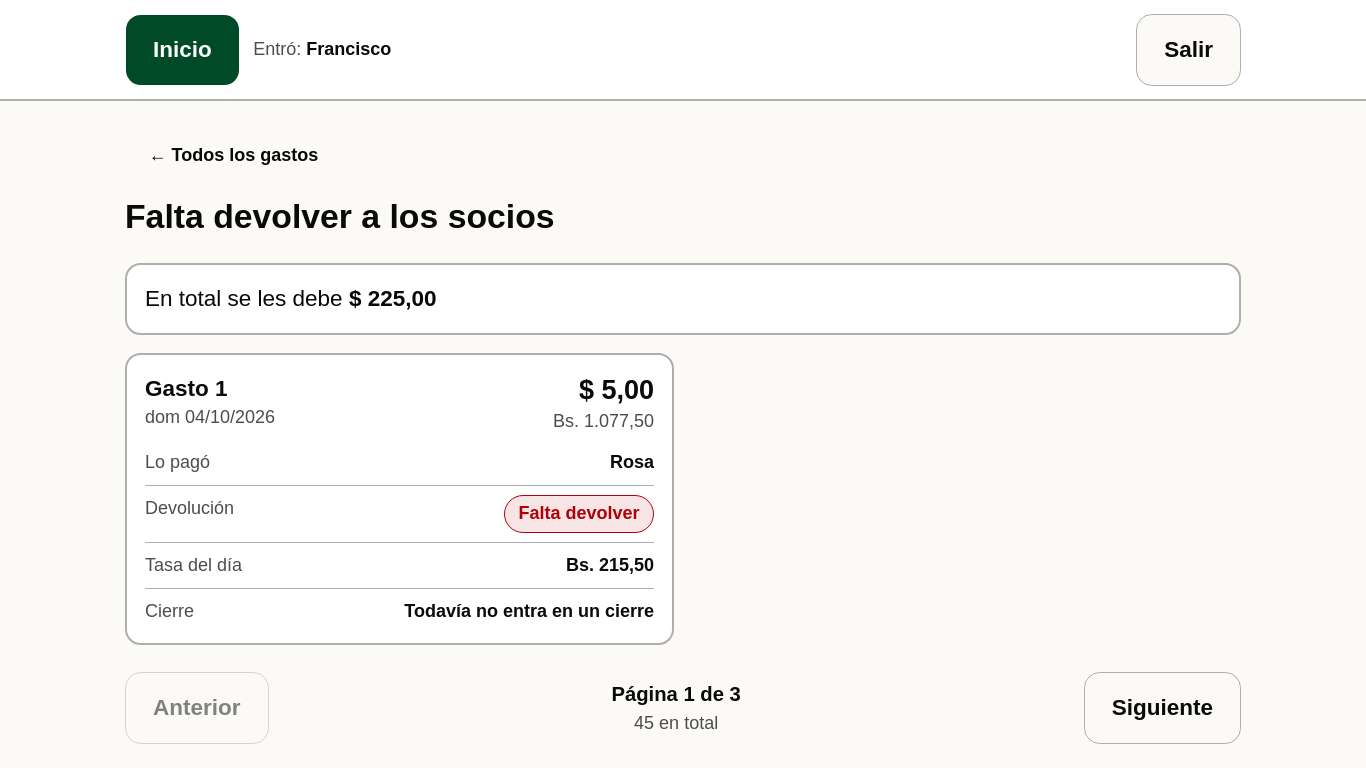
Test: money owed to partners › shows the total of every page and moves through the pages
Expected: the heading "Gasto 1" is shown, [145, 376, 228, 400]
Expected: the text "En total se les debe $ 225,00" is shown, [125, 263, 1241, 334]
Click the button "Siguiente" at (1162, 708), box [1084, 672, 1241, 744]
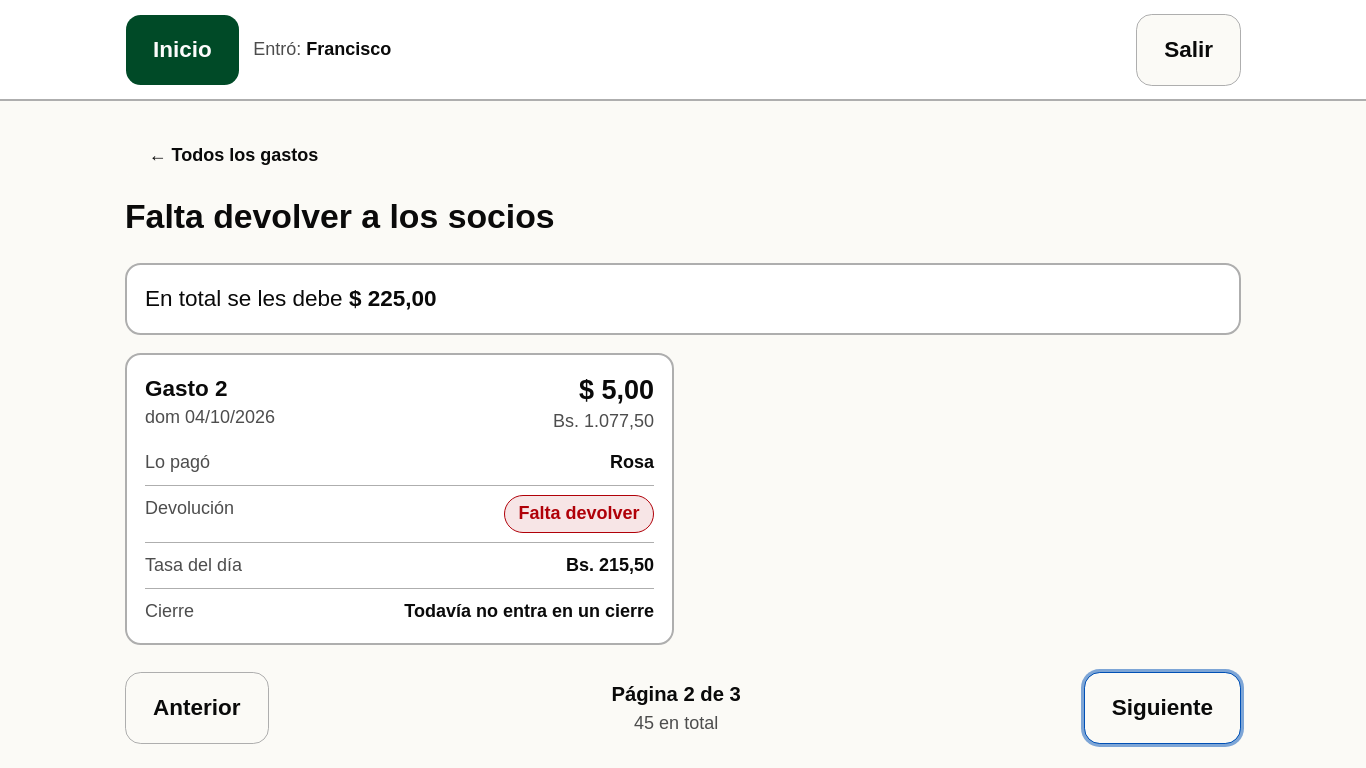
Expected: the text "En total se les debe $ 225,00" is shown, [125, 263, 1241, 334]
Expected: the heading "Gasto 2" is shown, [145, 376, 228, 400]
